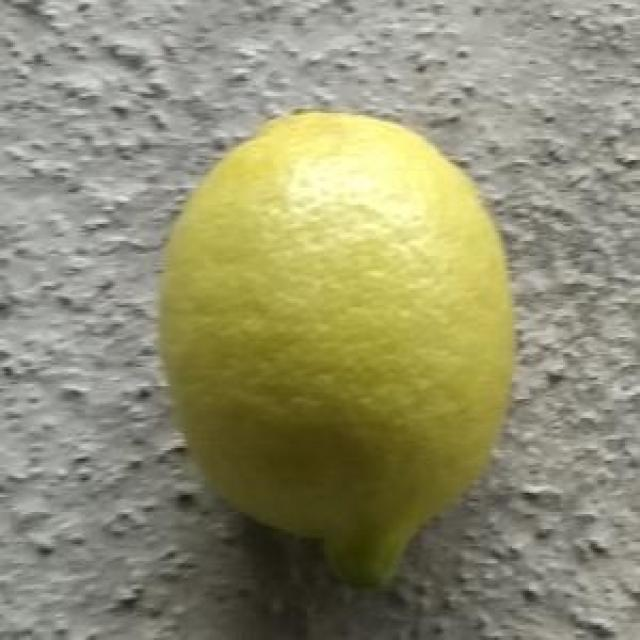lemon: (154, 110, 516, 588)
